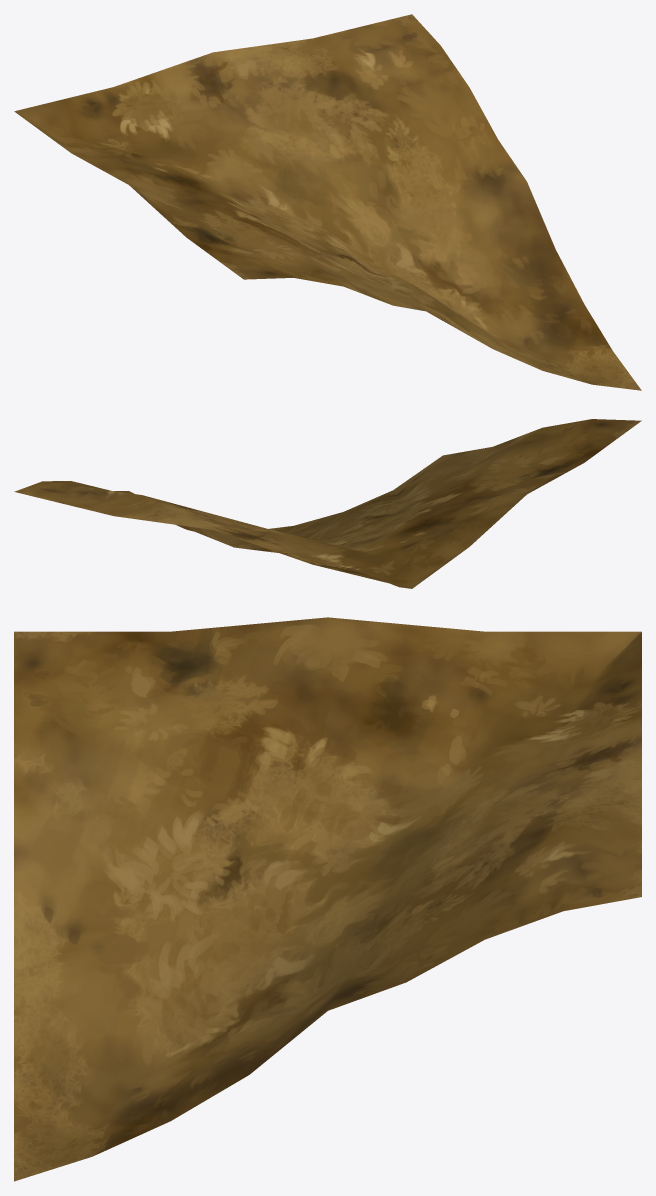
The model's file is Slope_Incline_004.fbx.
3 renders of one model, top to bottom at view 1: azimuth 30°, elevation 25°; view 2: azimuth 150°, elevation 25°; view 3: azimuth 270°, elevation 25°, orthographic. The views are drawn at different scales.
Parts seen in each view (by area): view 1: Slope_Incline_004; view 2: Slope_Incline_004; view 3: Slope_Incline_004.
Boxes of the visible parts, left/top/right/bottom form: Slope_Incline_004: left=14, top=14, right=641, bottom=390; Slope_Incline_004: left=14, top=419, right=641, bottom=588; Slope_Incline_004: left=14, top=617, right=641, bottom=1181.
Bounding box in the file's own units: 10 × 5.25 × 10.
1 material, 1 textured.
